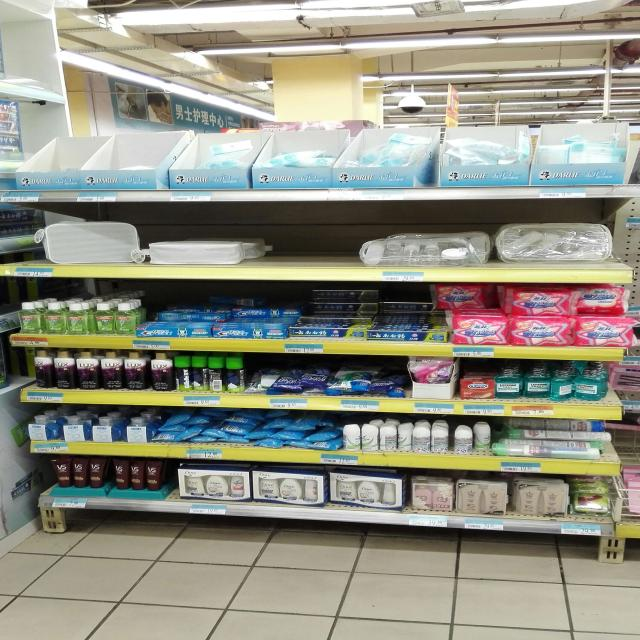empty: (273, 216, 359, 271)
